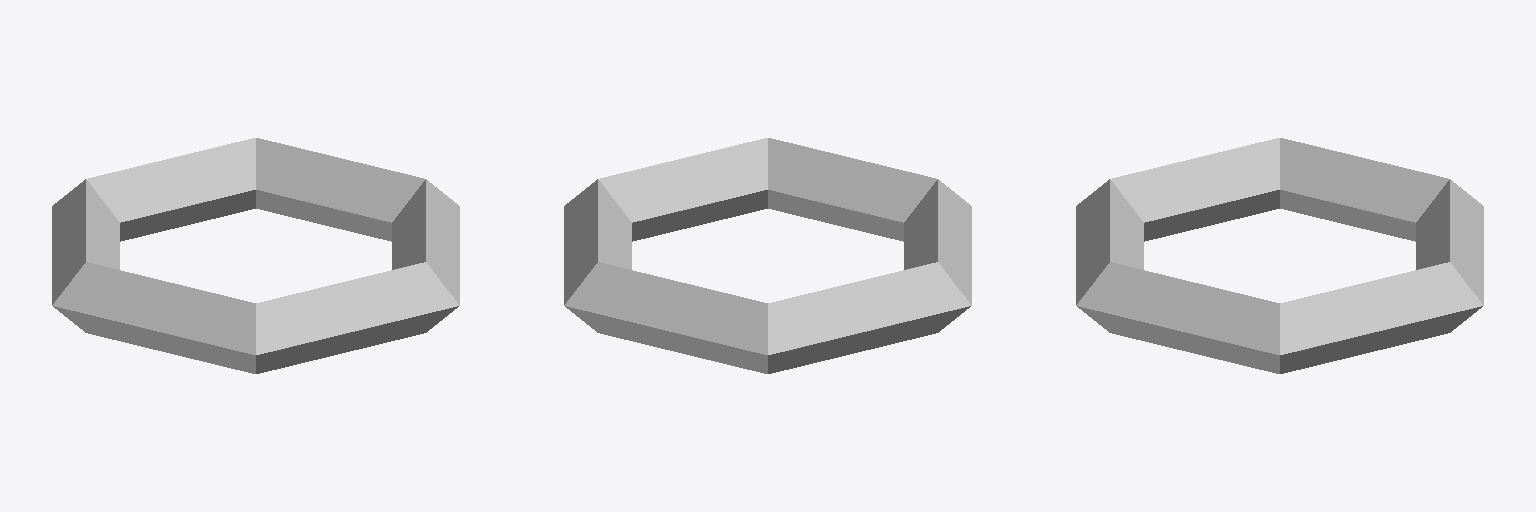
File: explosion_8.obj
3 views of the same model, side by side, from view 1: azimuth 30°, elevation 25°; view 2: azimuth 150°, elevation 25°; view 3: azimuth 270°, elevation 25° (orthographic).
Parts seen in each view (by area): view 1: Sphere; view 2: Sphere; view 3: Sphere.
Boxes of the visible parts, x1,y1,x2,y2 form: Sphere: [52, 138, 459, 373]; Sphere: [564, 138, 971, 373]; Sphere: [1076, 138, 1483, 373].
Bounding box in the file's own units: 48 × 8 × 41.57.